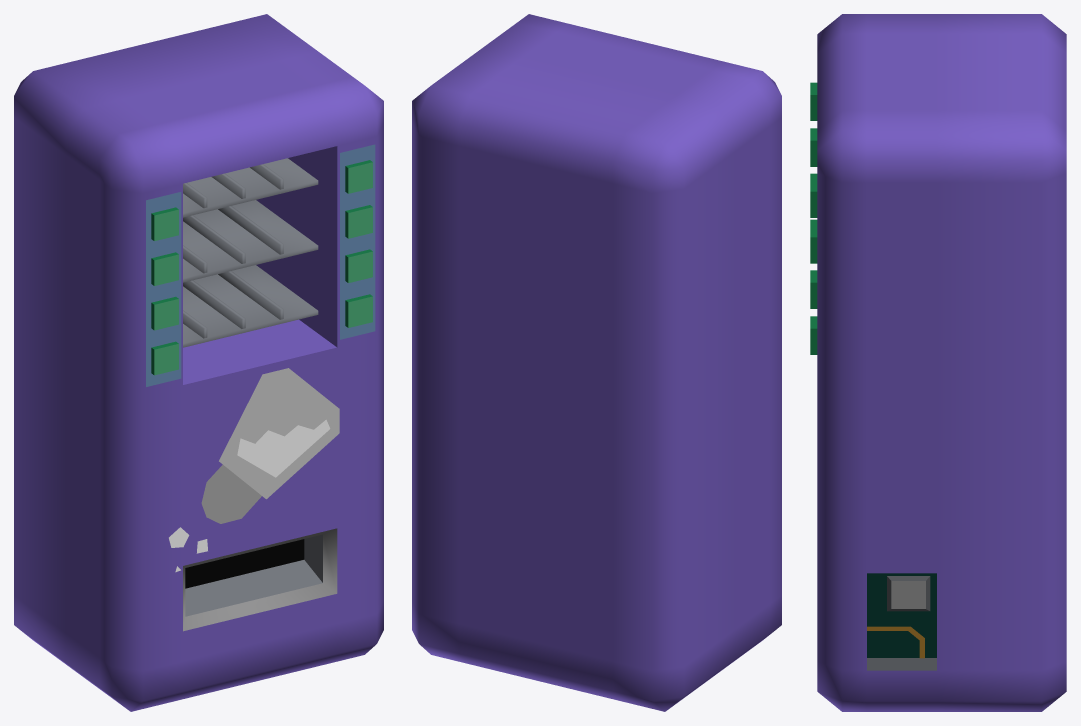
The model's file is Dinnerware.glb.
3 views of the same model, side by side, from view 1: azimuth 30°, elevation 25°; view 2: azimuth 150°, elevation 25°; view 3: azimuth 270°, elevation 25° (orthographic). The views are drawn at different scales.
Parts seen in each view (by area): view 1: Dinnerware; view 2: Dinnerware; view 3: Dinnerware.
Part boxes in pixels (x1,y1,x2,y2): Dinnerware: [14, 14, 383, 711]; Dinnerware: [412, 14, 781, 711]; Dinnerware: [810, 14, 1066, 711].
Bounding box in the file's own units: 0.9 × 1.8 × 0.7199.
1 material, 1 textured.
